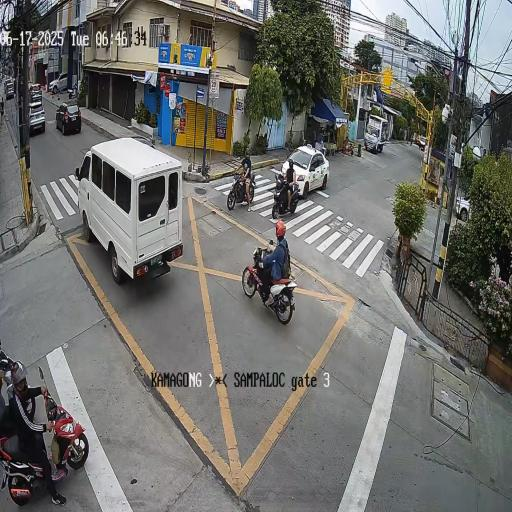Car: (75, 119, 196, 303), (280, 130, 338, 194), (54, 92, 89, 143), (362, 108, 392, 162), (24, 98, 52, 140)
Motor: (0, 324, 110, 493), (229, 229, 324, 330), (264, 154, 311, 228), (222, 146, 261, 216)
